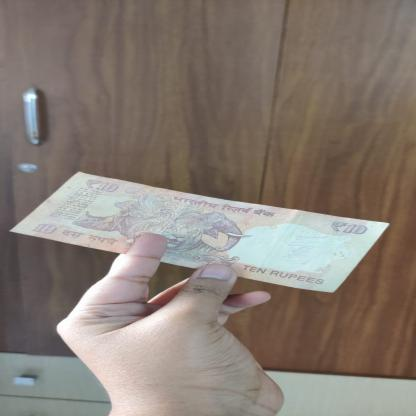Old10Back: (5, 169, 390, 294)
